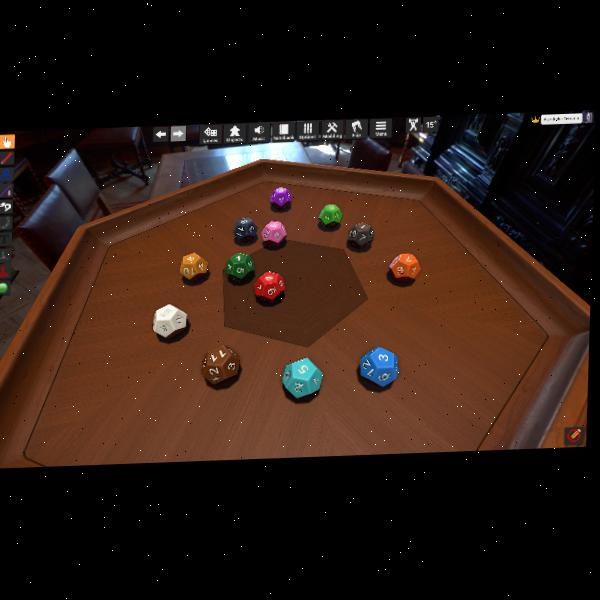d12: (281, 357, 322, 398), (362, 345, 401, 386), (201, 342, 239, 383), (152, 303, 188, 338), (253, 271, 285, 303), (225, 251, 255, 282), (179, 251, 208, 282), (388, 252, 416, 281), (346, 222, 373, 249), (261, 220, 287, 248), (232, 216, 258, 243), (318, 203, 341, 228), (269, 185, 292, 209)
